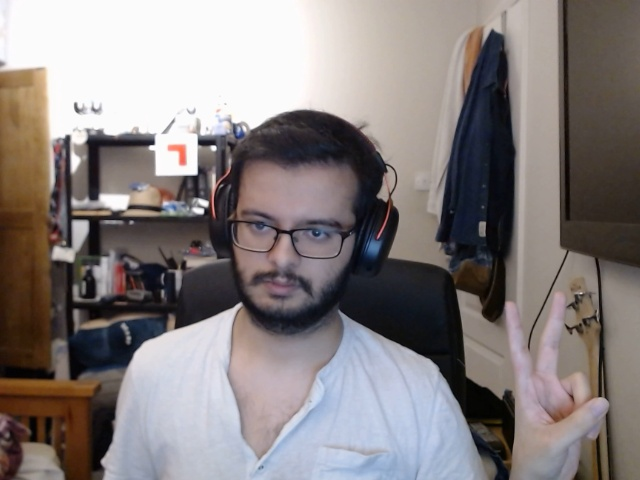Peace: (496, 284, 611, 478)
